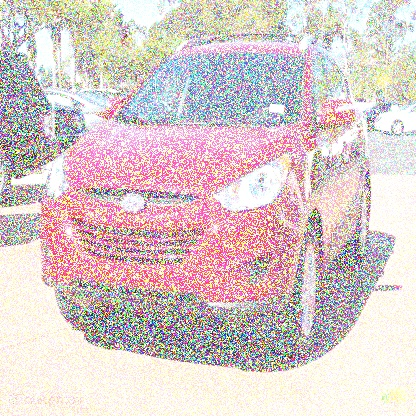Vehicle: (40, 31, 374, 360)
